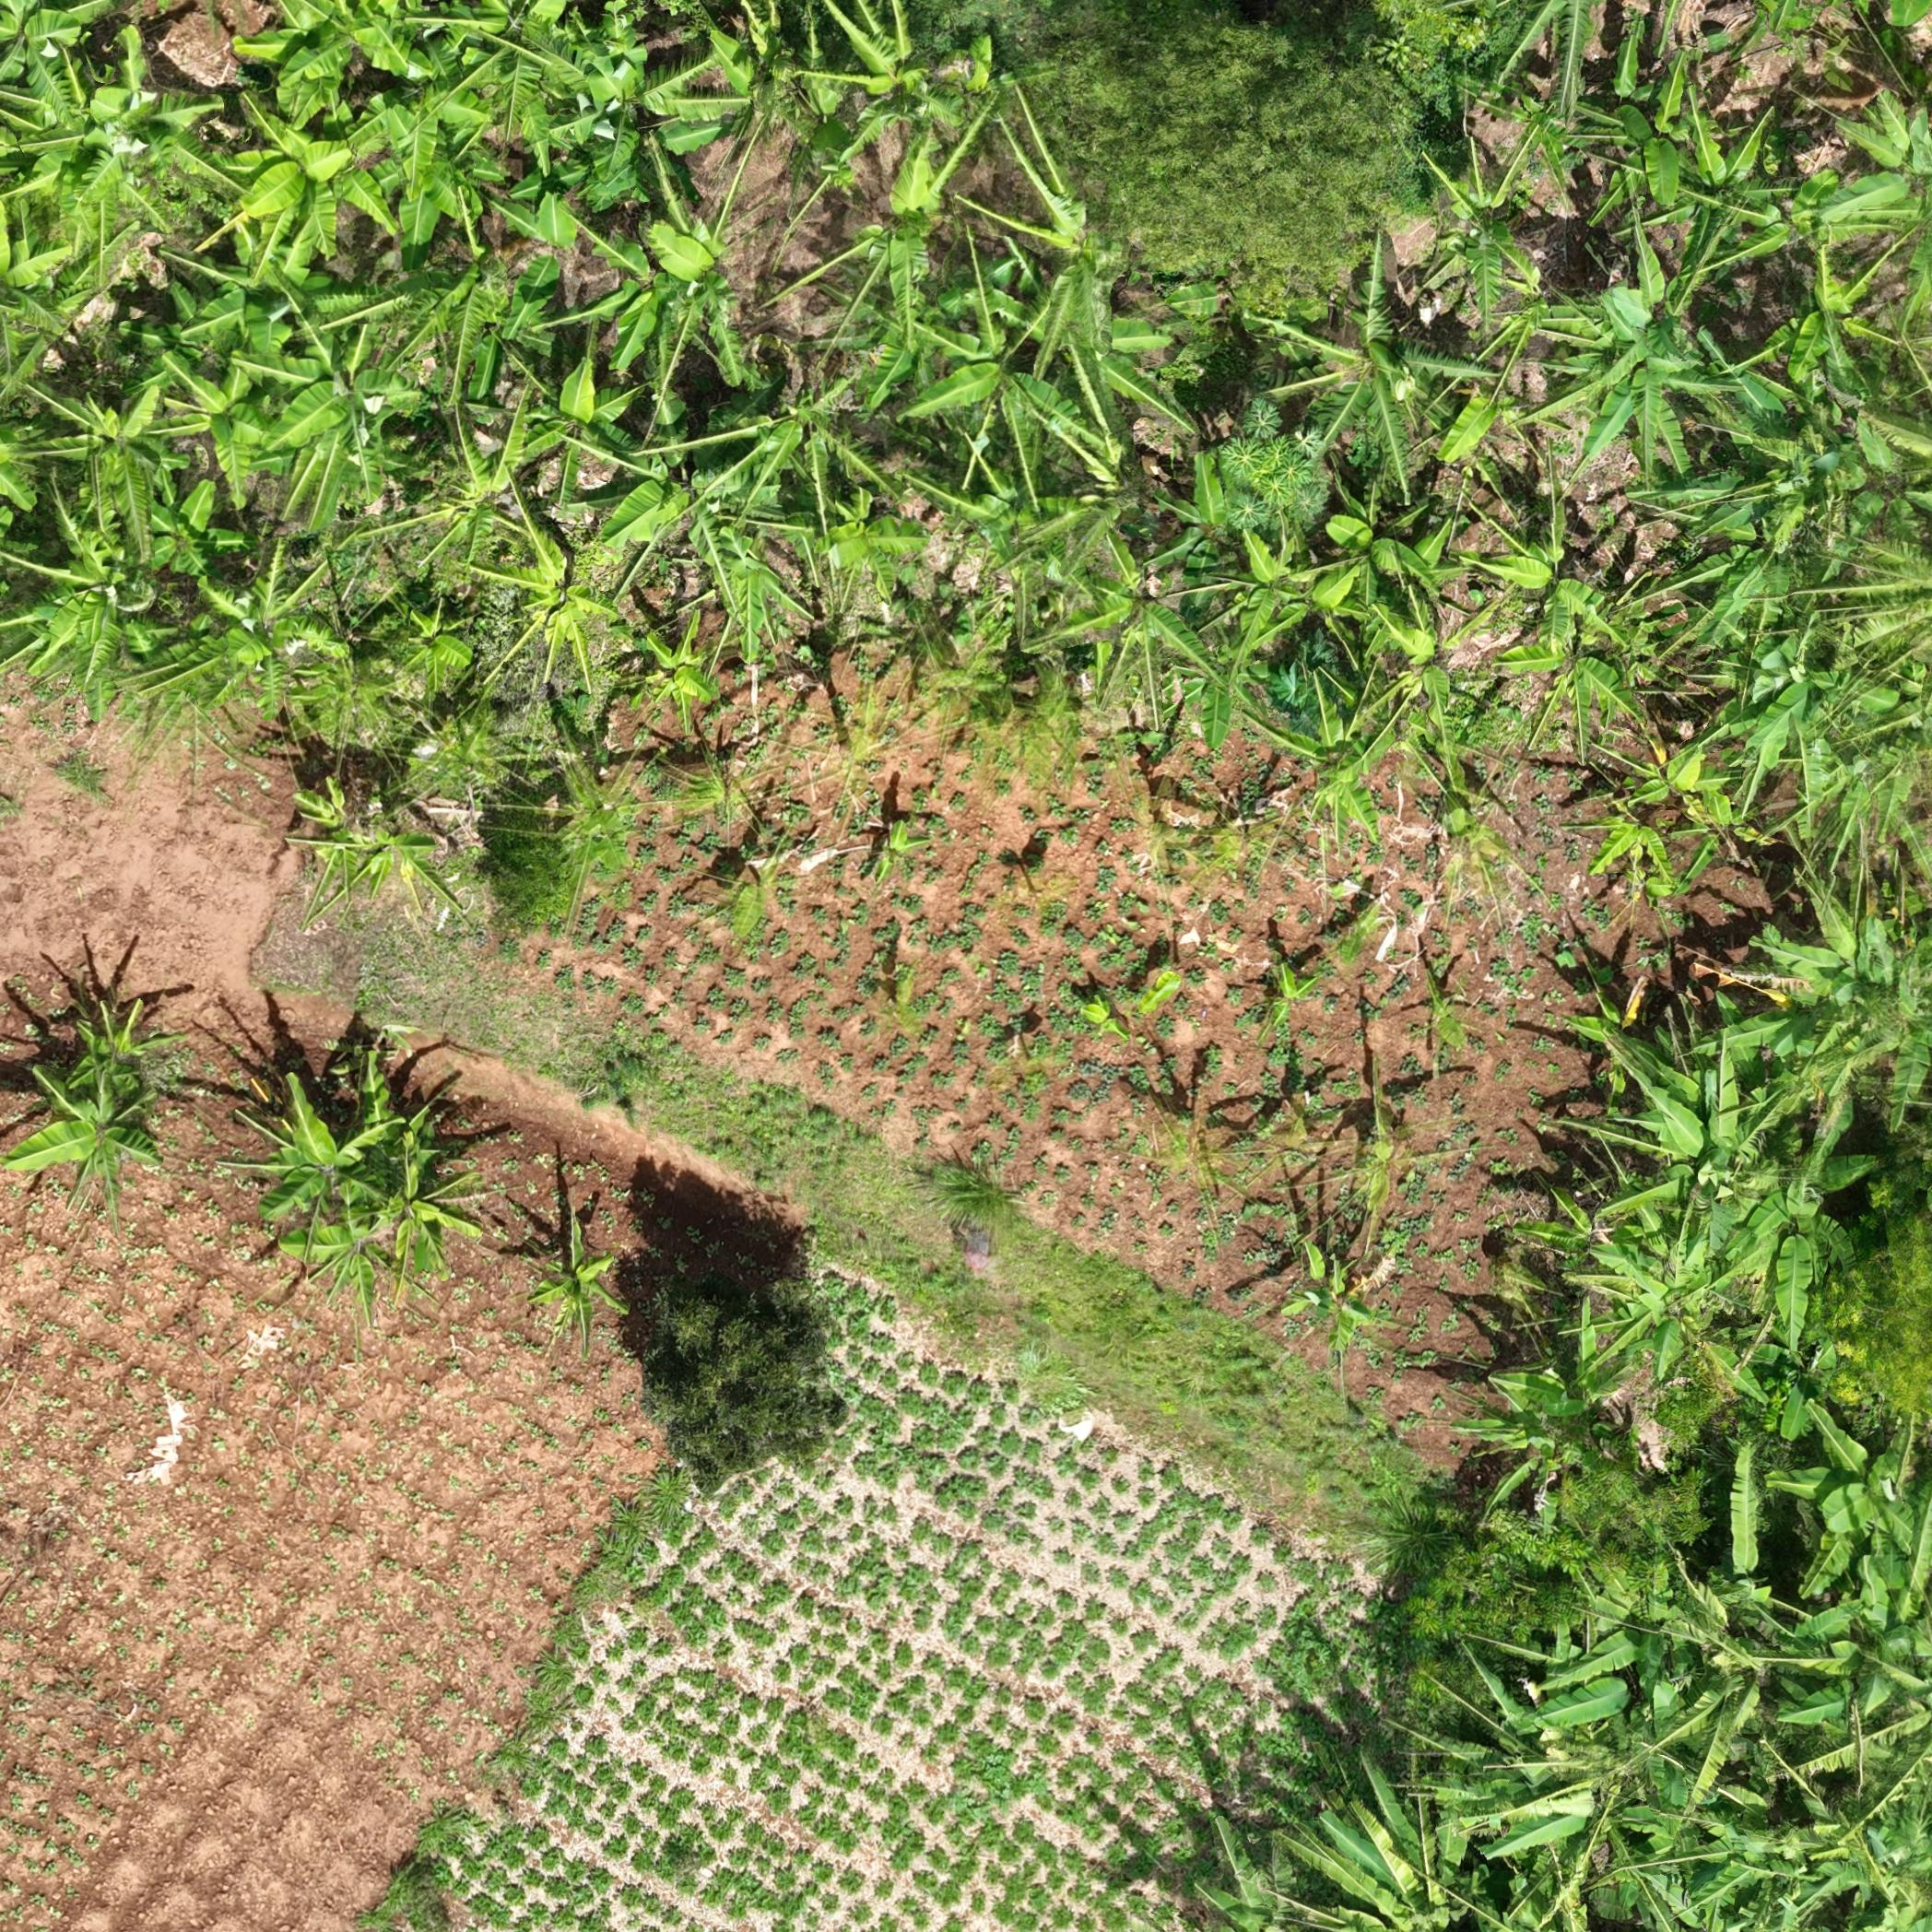Banana: (1764, 865, 1930, 1120), (1000, 111, 1134, 373), (952, 432, 1111, 633), (1348, 244, 1454, 515), (671, 382, 876, 520), (1408, 671, 1518, 927), (904, 290, 1100, 426), (1594, 1008, 1752, 1177), (265, 329, 395, 529), (1783, 1410, 1914, 1592), (1672, 1603, 1798, 1787), (1545, 333, 1706, 476), (46, 64, 186, 226), (57, 396, 195, 547), (1778, 720, 1923, 862), (1614, 1265, 1762, 1403), (1336, 510, 1463, 665), (1658, 501, 1819, 623), (1426, 159, 1539, 327), (1465, 80, 1599, 218), (1775, 1606, 1928, 1727), (1100, 540, 1215, 699), (1828, 416, 1927, 591), (1511, 635, 1644, 763), (1474, 525, 1610, 649), (25, 1067, 150, 1200), (1702, 625, 1842, 741), (465, 552, 614, 662), (1247, 706, 1376, 832), (579, 44, 676, 211), (669, 511, 782, 653), (180, 577, 301, 706), (1711, 170, 1925, 242), (255, 1077, 354, 1230), (1417, 1741, 1571, 1838), (418, 257, 518, 398), (1610, 55, 1698, 216), (869, 145, 947, 327), (1606, 214, 1700, 364), (520, 377, 642, 492), (299, 623, 405, 752), (1309, 1826, 1447, 1925), (471, 19, 594, 129), (253, 126, 359, 253), (536, 1221, 630, 1364), (628, 230, 717, 379), (1559, 1755, 1686, 1858), (32, 568, 150, 678), (1750, 1138, 1877, 1238), (1854, 564, 1927, 741), (1709, 396, 1831, 501), (283, 5, 460, 76), (168, 379, 264, 506), (1771, 1238, 1831, 1440), (543, 773, 628, 915), (1440, 1399, 1555, 1504), (1845, 101, 1927, 244), (1564, 794, 1675, 899), (1801, 246, 1879, 393), (1580, 1571, 1693, 1672), (395, 87, 481, 218), (345, 1072, 435, 1196), (377, 1171, 481, 1277), (285, 1201, 403, 1293), (626, 626, 727, 732), (1523, 1644, 1638, 1736), (1626, 1191, 1737, 1284), (4, 12, 101, 117), (1152, 469, 1247, 573), (423, 717, 520, 817), (1522, 1304, 1606, 1417), (1284, 1238, 1368, 1350), (458, 418, 525, 550), (1801, 1798, 1927, 1868), (19, 226, 90, 352), (830, 501, 922, 596), (1201, 1822, 1292, 1920), (1690, 1771, 1778, 1863), (73, 1014, 166, 1100), (1668, 798, 1750, 888), (1520, 1184, 1624, 1253), (1822, 1856, 1923, 1927), (1888, 1651, 1930, 1815), (1438, 1810, 1504, 1914), (1619, 1706, 1700, 1787), (1522, 1842, 1589, 1928), (405, 616, 467, 702), (1614, 1863, 1693, 1927), (1368, 1067, 1399, 1221), (1622, 757, 1725, 803), (1730, 1874, 1794, 1930), (674, 768, 763, 809), (1276, 961, 1320, 1033), (724, 881, 766, 938), (874, 823, 915, 879), (1088, 1001, 1127, 1042)
